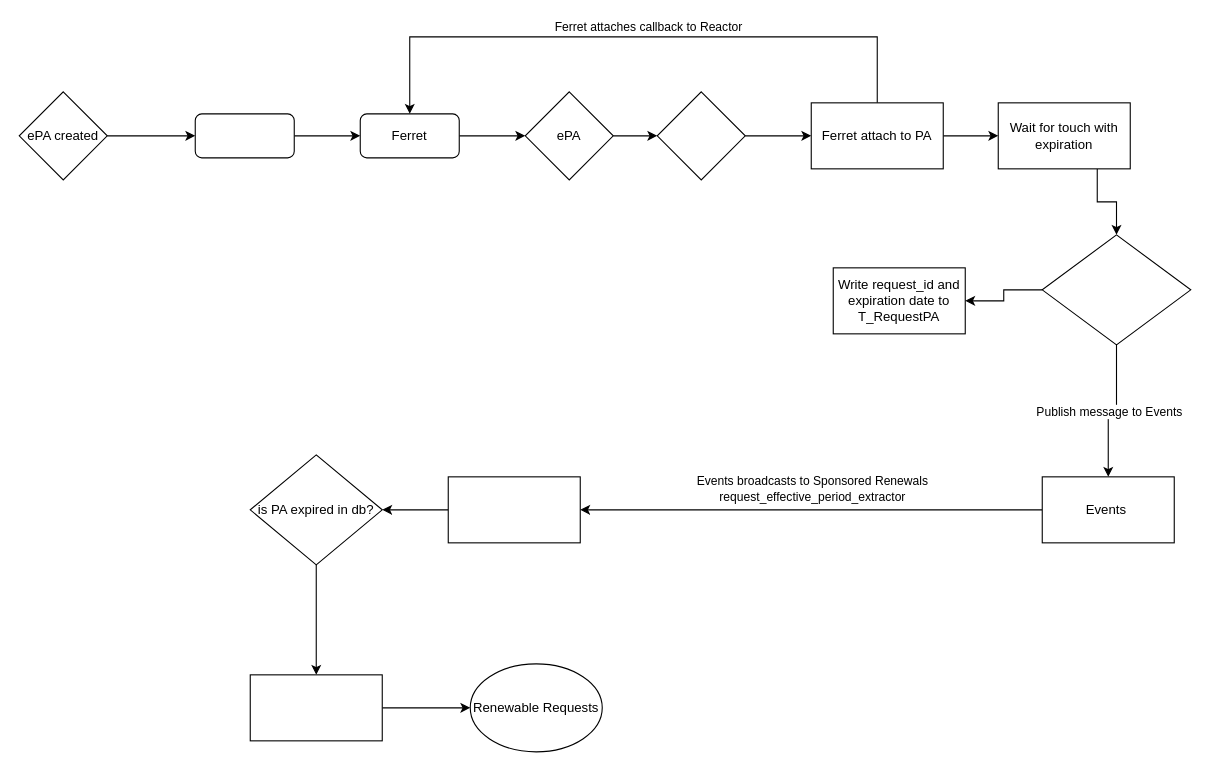
Some shapes in this 1210 by 771 pixel diagram are drawn without their labels. Here are the shapes that lost their labels. From the top down, the centre of each, then its label:
At pixel 244 135: "Reactor".
At pixel 700 135: "sponsored?".
At pixel 1116 289: "PA determination w/ expiration".
At pixel 513 509: "Sponsored Renewals".
At pixel 315 707: "Sidekiq".
